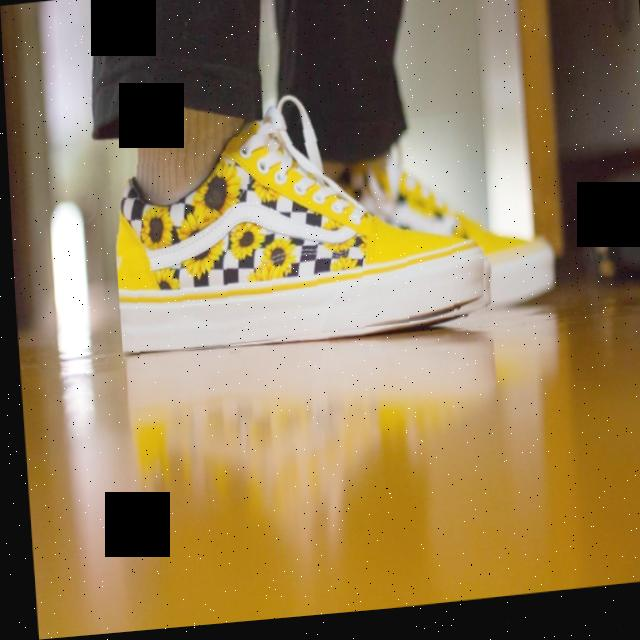shoe: (107, 119, 489, 361)
